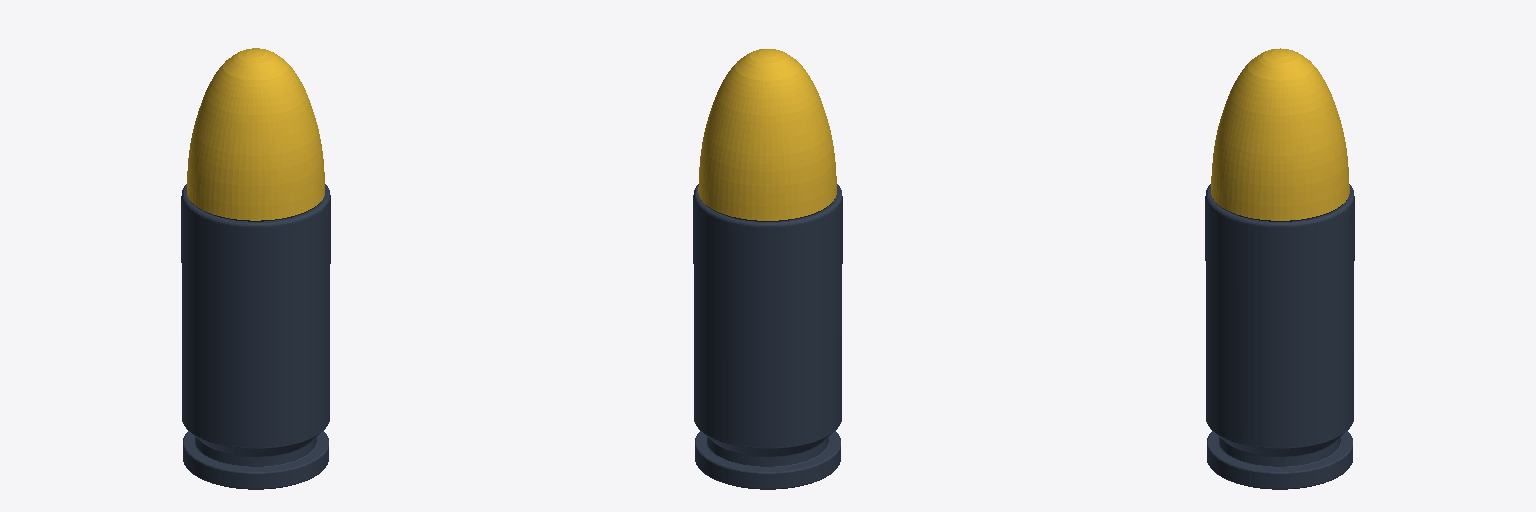
Rendered from Bullet.obj.
The picture shows the model from 3 angles: view 1: azimuth 30°, elevation 25°; view 2: azimuth 150°, elevation 25°; view 3: azimuth 270°, elevation 25°; orthographic projection.
Visible parts, largest first — view 1: Bullet; view 2: Bullet; view 3: Bullet.
Boxes of the visible parts, <box> form: Bullet: <box>181,48,330,489</box>; Bullet: <box>693,49,842,489</box>; Bullet: <box>1205,48,1354,489</box>.
Size of the model in its own units: 54.85 by 165 by 54.85.